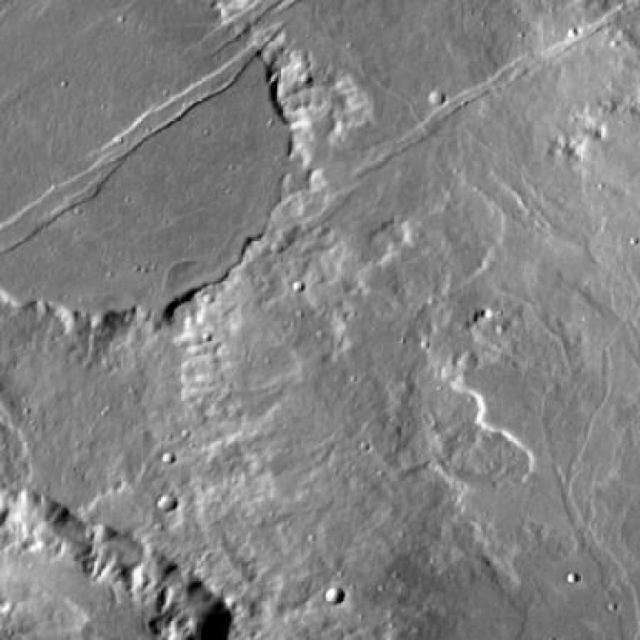crater: (0, 0, 278, 311), (141, 490, 161, 508), (308, 583, 328, 600)
